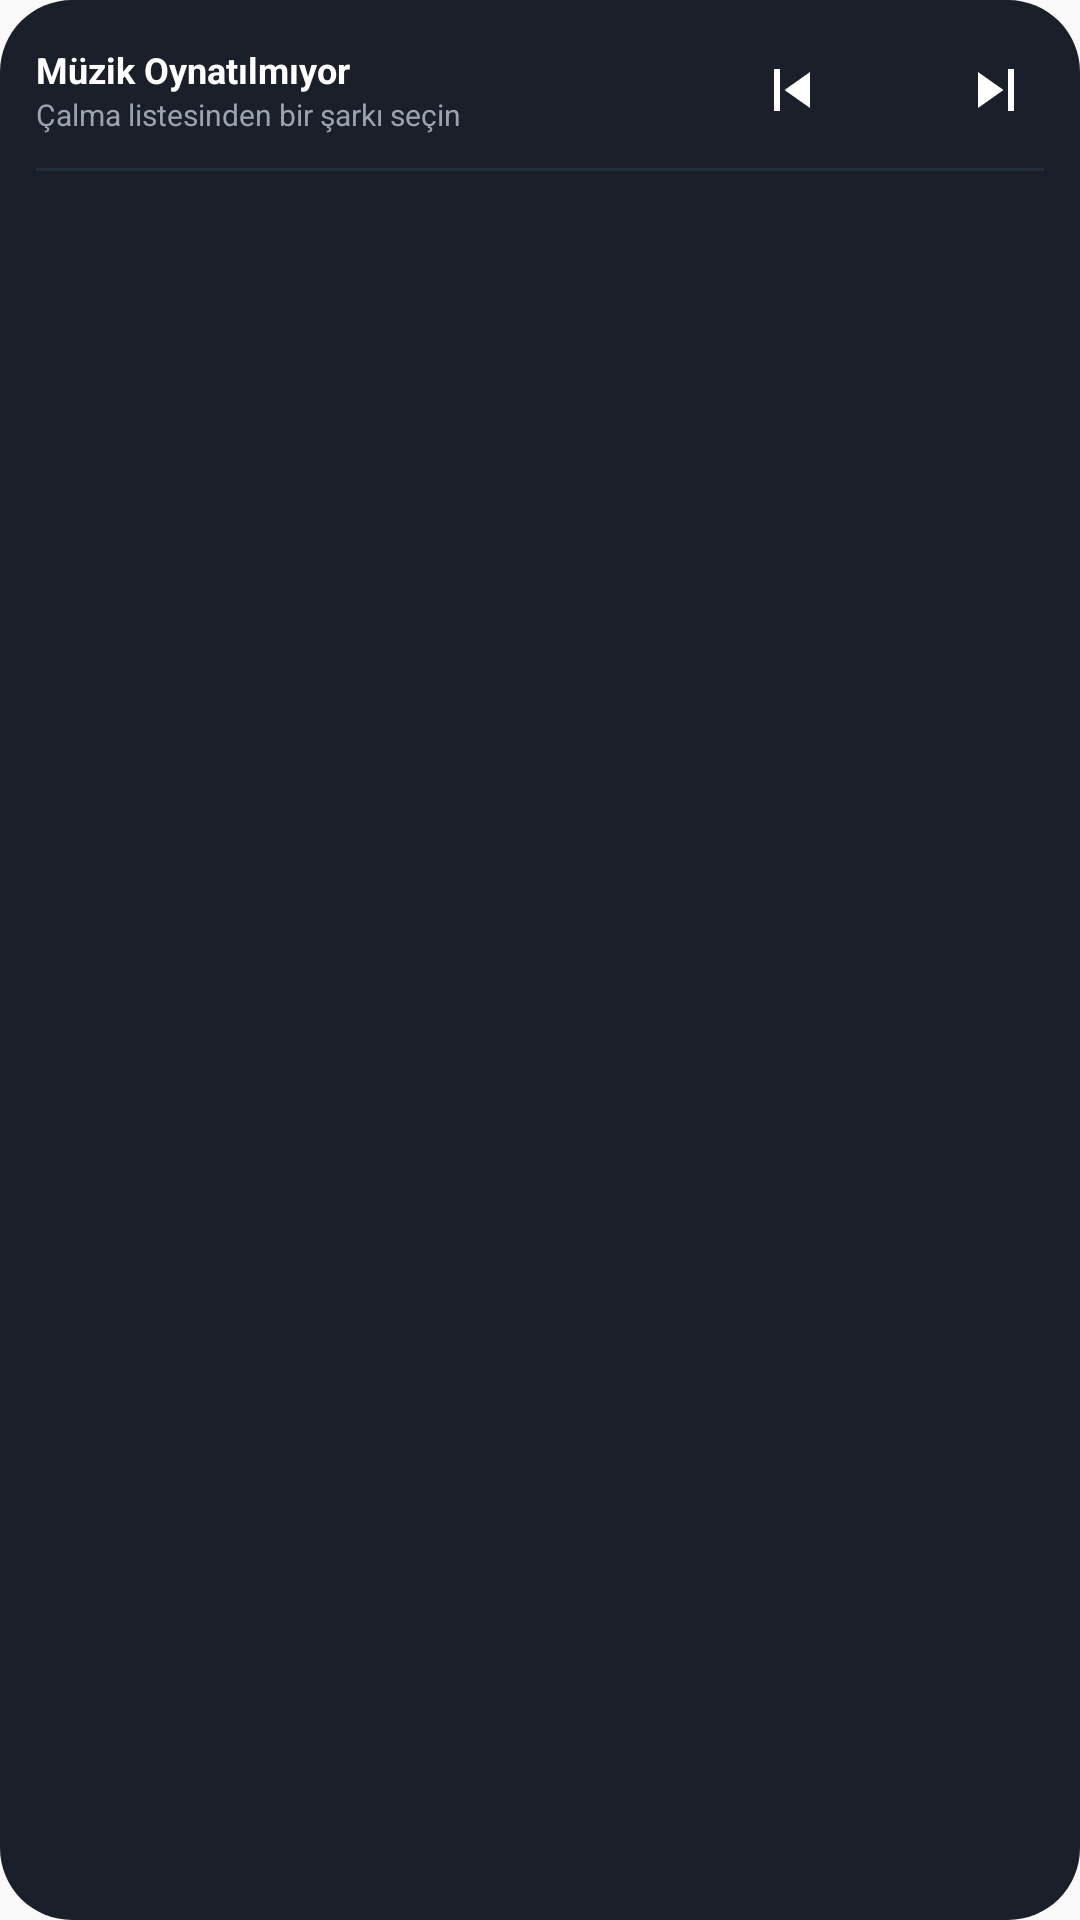

Point at icon controls on the screen. Image size 1080*1920, points as [x,y].
Next: [996,90]
Previous: [792,90]
